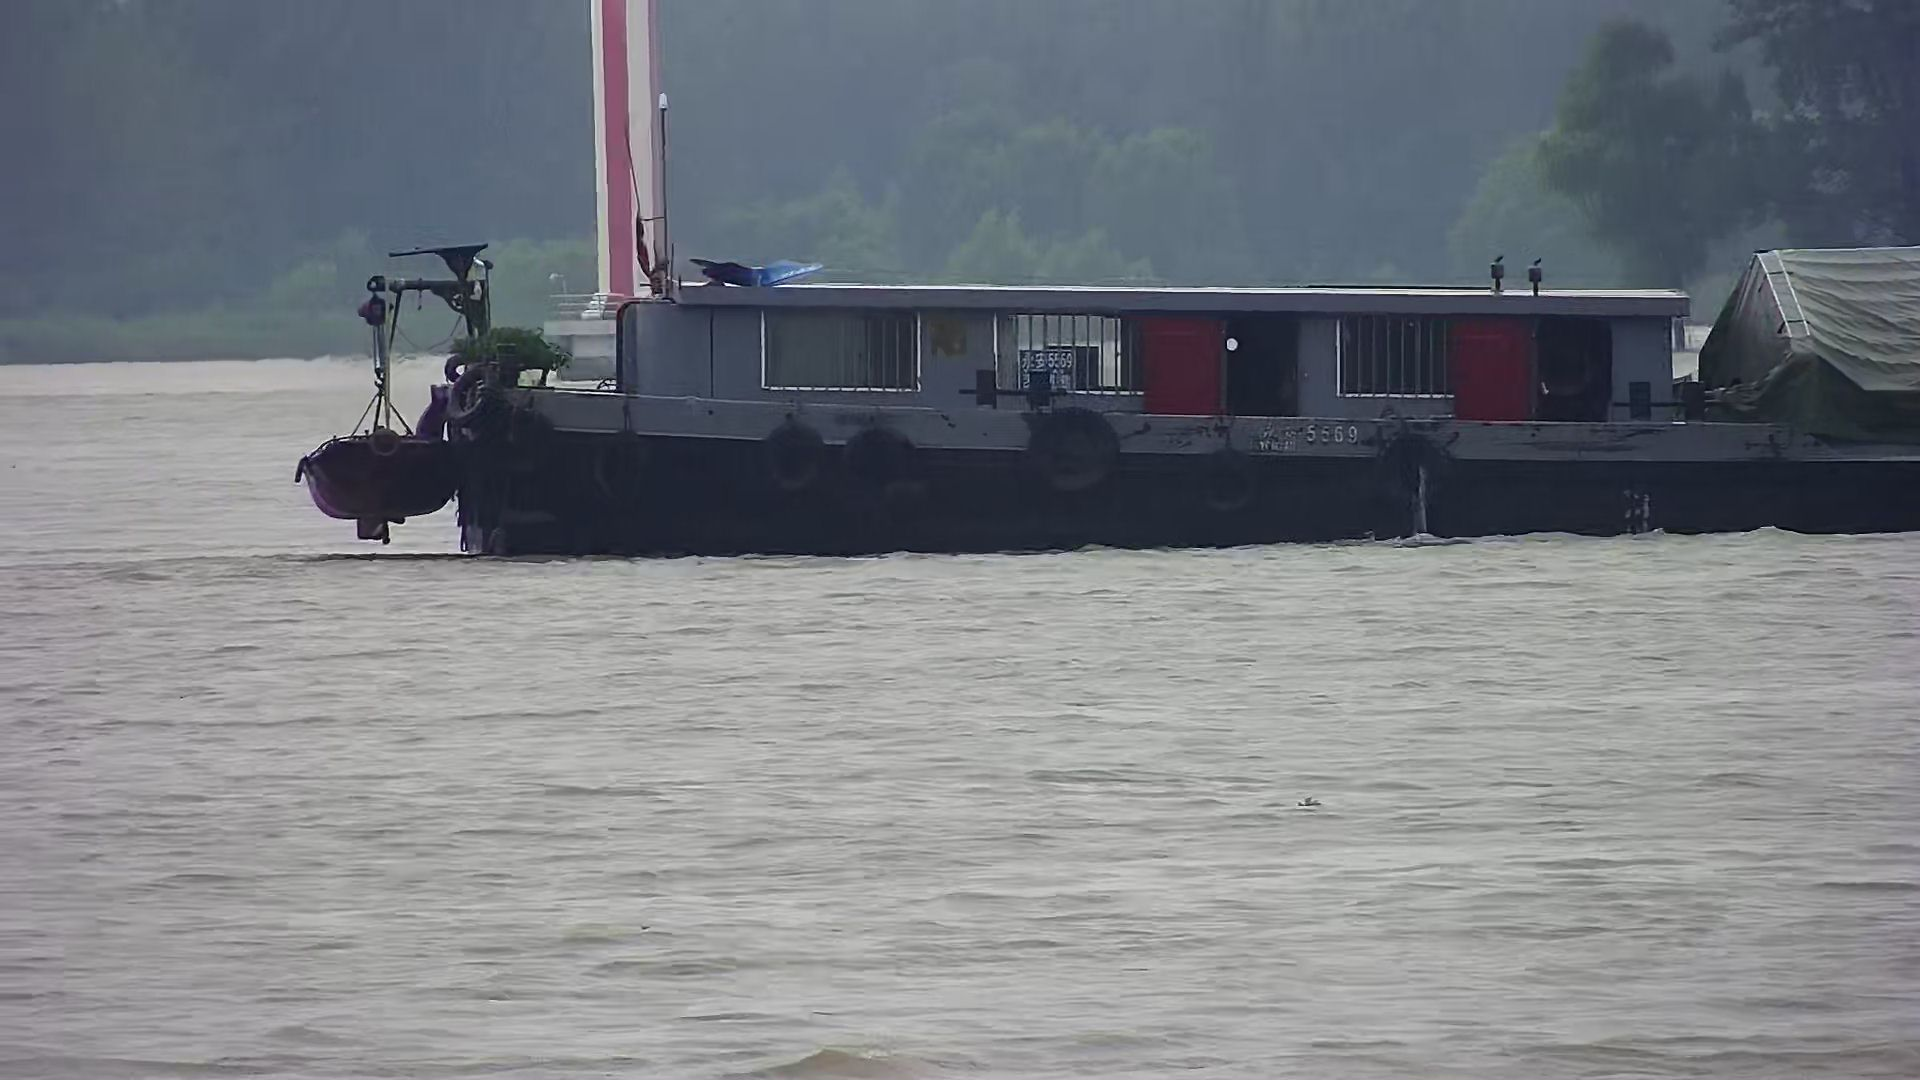platform: (537, 1, 698, 380)
ship: (295, 236, 1920, 556)
tree: (1528, 15, 1766, 356), (1737, 1, 1920, 243)
